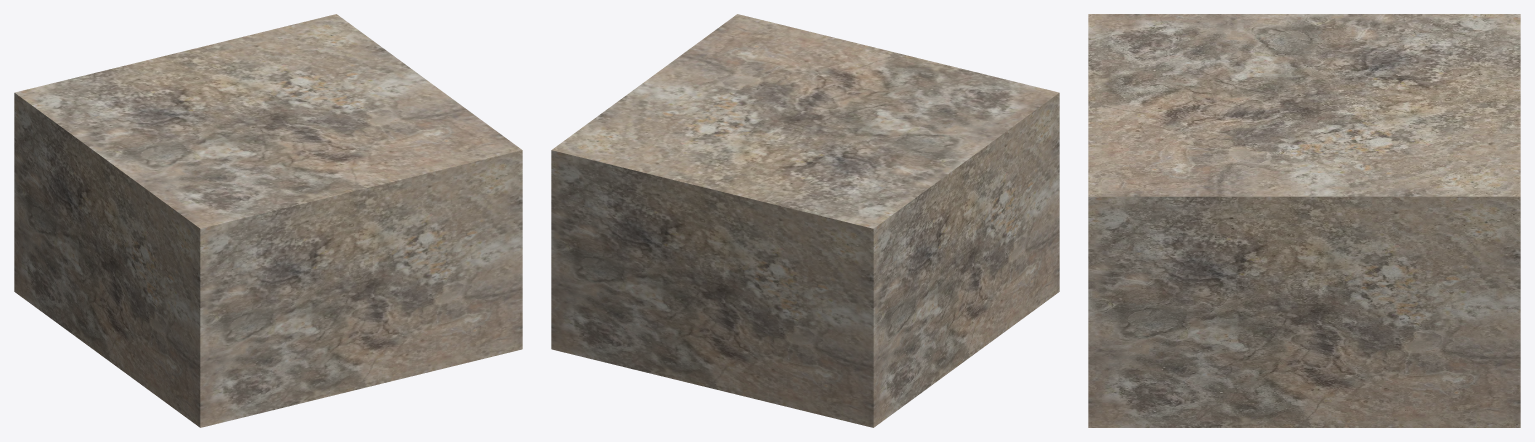
The model's file is desert_under.glb.
3 views of the same model, side by side, from view 1: azimuth 30°, elevation 25°; view 2: azimuth 150°, elevation 25°; view 3: azimuth 270°, elevation 25° (orthographic). The views are drawn at different scales.
Parts seen in each view (by area): view 1: desert_under; view 2: desert_under; view 3: desert_under.
Part boxes in pixels (x1=…): desert_under: x1=14, y1=14, x2=522, y2=427; desert_under: x1=551, y1=14, x2=1059, y2=427; desert_under: x1=1088, y1=14, x2=1520, y2=427.
Bounding box in the file's own units: 4.4 × 2.6 × 4.4.
Materials: 1 (1 with a texture image).
